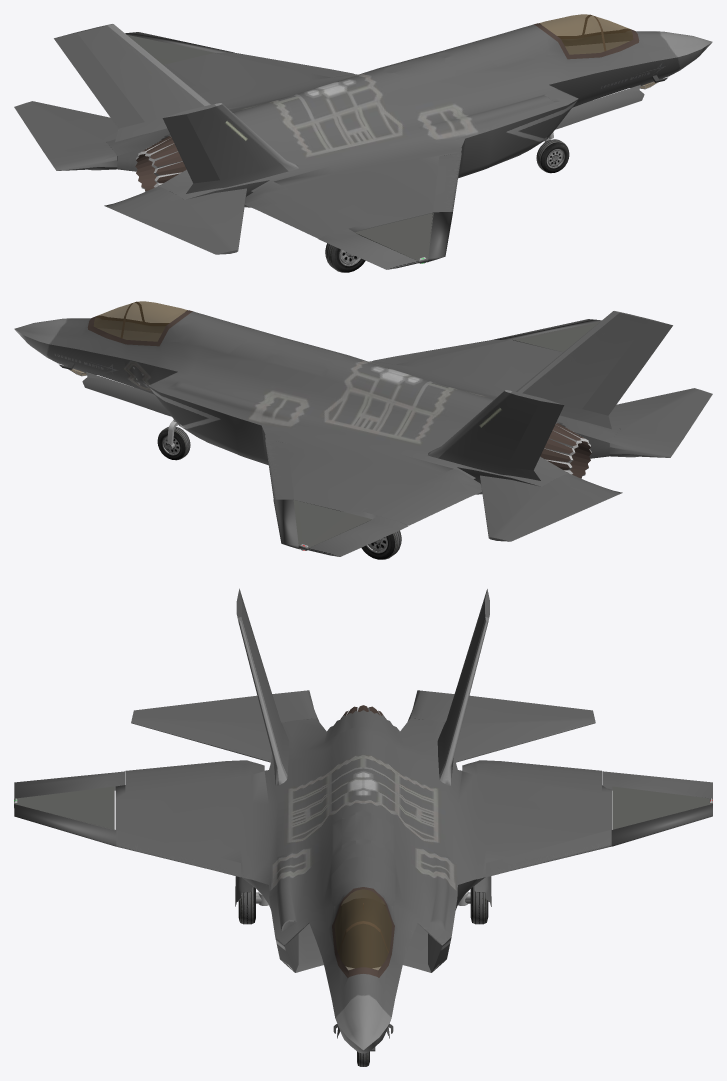
The picture shows the model from 3 angles, top to bottom: view 1: azimuth 30°, elevation 25°; view 2: azimuth 150°, elevation 25°; view 3: azimuth 270°, elevation 25°; orthographic projection. The views are drawn at different scales.
Visible parts, largest first — view 1: fuselage, vertStab, rightElevator, leftElevator, rightFlaperon, canopy, leftRudder, fuselage.003, topLiftDoor, rightRudder, rightFlaperon.001, rightNoseDoor (+8 smaller); view 2: fuselage, vertStab, leftElevator, rightElevator, leftFlaperon, canopy, rightRudder, fuselage.002, topLiftDoor, leftRudder, rightFlaperon.002, leftNoseDoor (+8 smaller); view 3: fuselage, rightElevator, leftElevator, vertStab, canopy, rightFlaperon, leftFlaperon, fuselage.003, fuselage.002, topLiftDoor, leftSlat, rightSlat (+6 smaller).
Part boxes in pixels (box(x1,y1,x2,y2)): fuselage: box(106, 24, 712, 232); vertStab: box(76, 24, 298, 193); rightElevator: box(104, 186, 246, 254); leftElevator: box(14, 101, 118, 170); rightFlaperon: box(245, 181, 363, 238); canopy: box(534, 14, 639, 59); leftRudder: box(54, 32, 144, 128); fuselage.003: box(355, 213, 433, 263); topLiftDoor: box(467, 25, 549, 67); rightRudder: box(162, 111, 219, 183); rightFlaperon.001: box(318, 229, 417, 269); rightNoseDoor: box(555, 85, 644, 129); fuselage: box(14, 311, 620, 519); vertStab: box(428, 311, 650, 480); leftElevator: box(480, 473, 622, 541); rightElevator: box(608, 388, 712, 457); leftFlaperon: box(363, 468, 481, 525); canopy: box(87, 301, 192, 346); rightRudder: box(582, 319, 672, 415); fuselage.002: box(293, 500, 371, 550); topLiftDoor: box(177, 312, 259, 354); leftRudder: box(507, 398, 564, 470); rightFlaperon.002: box(308, 516, 408, 556); leftNoseDoor: box(82, 372, 171, 416); fuselage: box(115, 710, 611, 1053); rightElevator: box(131, 690, 318, 762); leftElevator: box(408, 690, 595, 762); vertStab: box(236, 600, 489, 785); canopy: box(332, 887, 394, 977); rightFlaperon: box(125, 760, 264, 793); leftFlaperon: box(462, 760, 601, 793); fuselage.003: box(14, 786, 114, 830); fuselage.002: box(612, 786, 712, 829); topLiftDoor: box(330, 857, 396, 905); leftSlat: box(486, 830, 611, 877); rightSlat: box(116, 830, 240, 877).
Size of the model in its own units: 18.48 by 5.66 by 15.54.
Materials: 9 (2 with a texture image).
